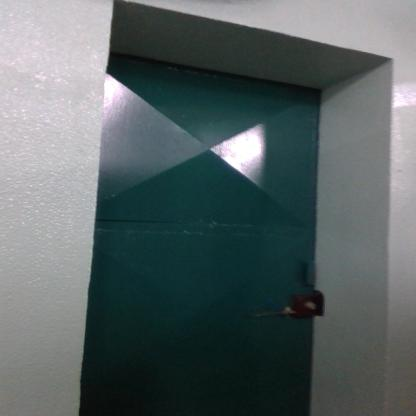closed: (105, 0, 394, 416)
